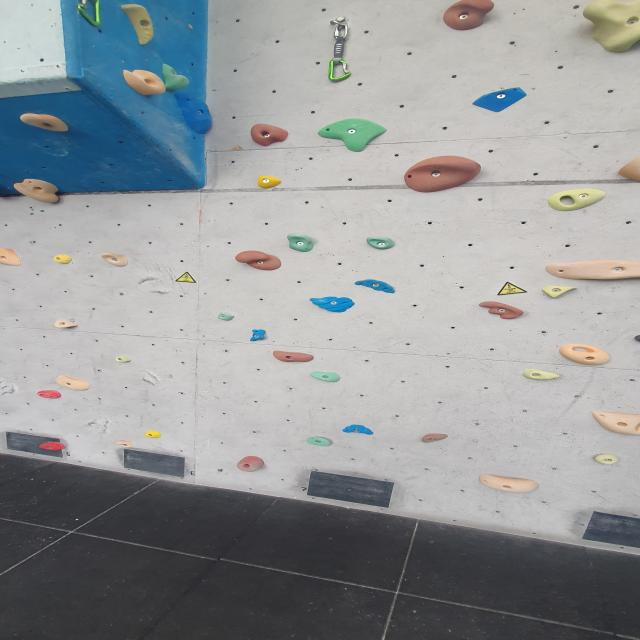Crimp: (316, 117, 391, 151), (174, 90, 221, 137), (117, 2, 156, 48), (477, 474, 540, 495), (307, 298, 356, 314), (271, 350, 315, 363), (54, 377, 92, 391), (354, 281, 397, 293), (32, 388, 68, 402), (592, 451, 622, 466), (310, 370, 343, 383), (257, 176, 284, 189), (306, 436, 337, 447), (341, 425, 374, 435), (421, 432, 451, 442), (38, 443, 66, 453), (115, 439, 140, 450), (53, 252, 73, 265), (215, 311, 237, 322), (249, 330, 266, 341), (146, 430, 164, 439), (117, 356, 135, 363)
Jug: (574, 0, 640, 54), (538, 258, 640, 283), (440, 0, 498, 32), (7, 176, 68, 205), (120, 67, 168, 97), (231, 249, 285, 272), (16, 112, 71, 132), (248, 125, 292, 147), (479, 302, 528, 320), (282, 233, 319, 251), (519, 367, 561, 381), (235, 457, 266, 472), (100, 252, 130, 266), (364, 236, 396, 249), (0, 247, 21, 265)
Pocket: (583, 409, 640, 435), (545, 187, 609, 210), (558, 346, 614, 366)
Sloper: (402, 154, 486, 194)
